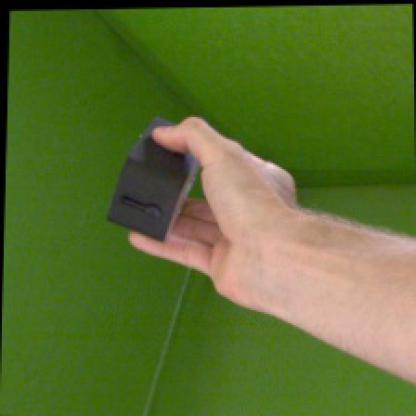Hand: (128, 116, 298, 312)
